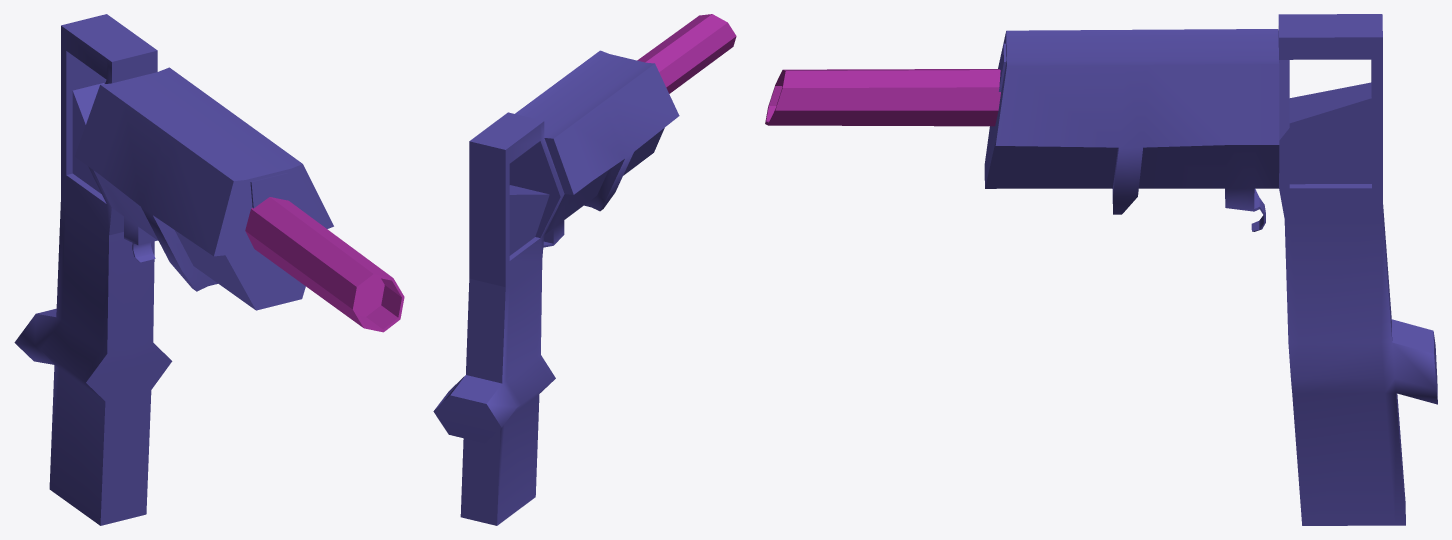
The model's file is Inflador_03.fbx.
3 renders of one model, left to right at view 1: azimuth 30°, elevation 25°; view 2: azimuth 150°, elevation 25°; view 3: azimuth 270°, elevation 25°, orthographic. The views are drawn at different scales.
Visible parts, largest first — view 1: Infladora; view 2: Infladora; view 3: Infladora.
Part boxes in pixels (x1,y1,x2,y2): Infladora: (14, 14, 404, 525); Infladora: (433, 14, 736, 525); Infladora: (765, 14, 1437, 525).
Size of the model in its own units: 0.513 by 1.88 by 2.35.
